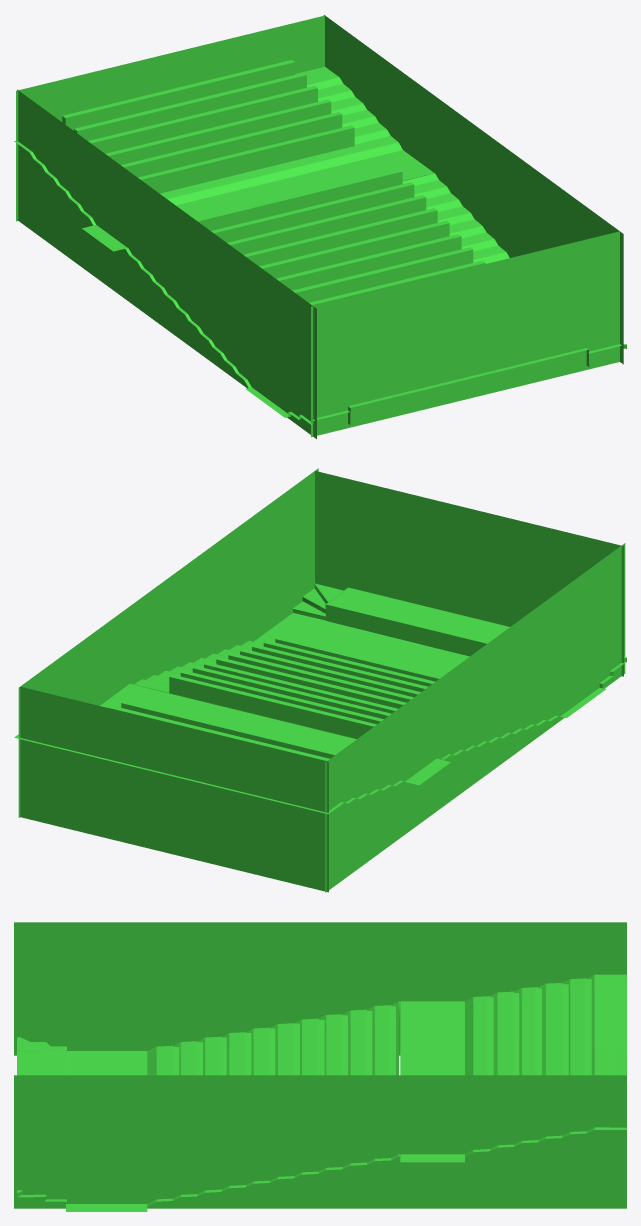
Rendered from CinemaCollision.FBX.
3 renders of one model, top to bottom at view 1: azimuth 30°, elevation 25°; view 2: azimuth 150°, elevation 25°; view 3: azimuth 270°, elevation 25°, orthographic. The views are drawn at different scales.
Parts seen in each view (by area): view 1: Collision; view 2: Collision; view 3: Collision.
Boxes of the visible parts, x1=… form: Collision: x1=14, y1=15, x2=626, y2=438; Collision: x1=14, y1=468, x2=626, y2=892; Collision: x1=14, y1=922, x2=626, y2=1211.
Size of the model in its own units: 1314 by 487 by 2026.
